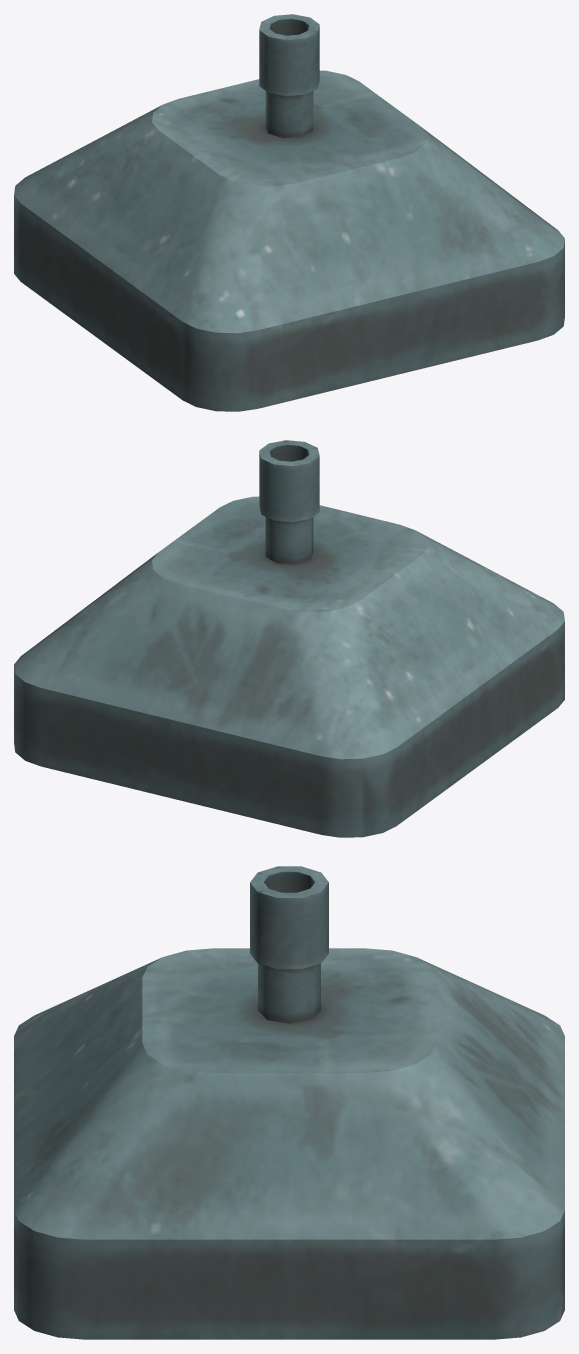
Rendered from bannerflagbaseA.fbx.
3 renders of one model, top to bottom at view 1: azimuth 30°, elevation 25°; view 2: azimuth 150°, elevation 25°; view 3: azimuth 270°, elevation 25°, orthographic. The views are drawn at different scales.
Parts seen in each view (by area): view 1: bannerflagbaseA; view 2: bannerflagbaseA; view 3: bannerflagbaseA.
Part boxes in pixels (x1,y1,x2,y2): bannerflagbaseA: (14,14,564,411); bannerflagbaseA: (14,440,564,837); bannerflagbaseA: (14,866,564,1339).
Bounding box in the file's own units: 35 × 23.89 × 35.
Materials: 1 (1 with a texture image).
